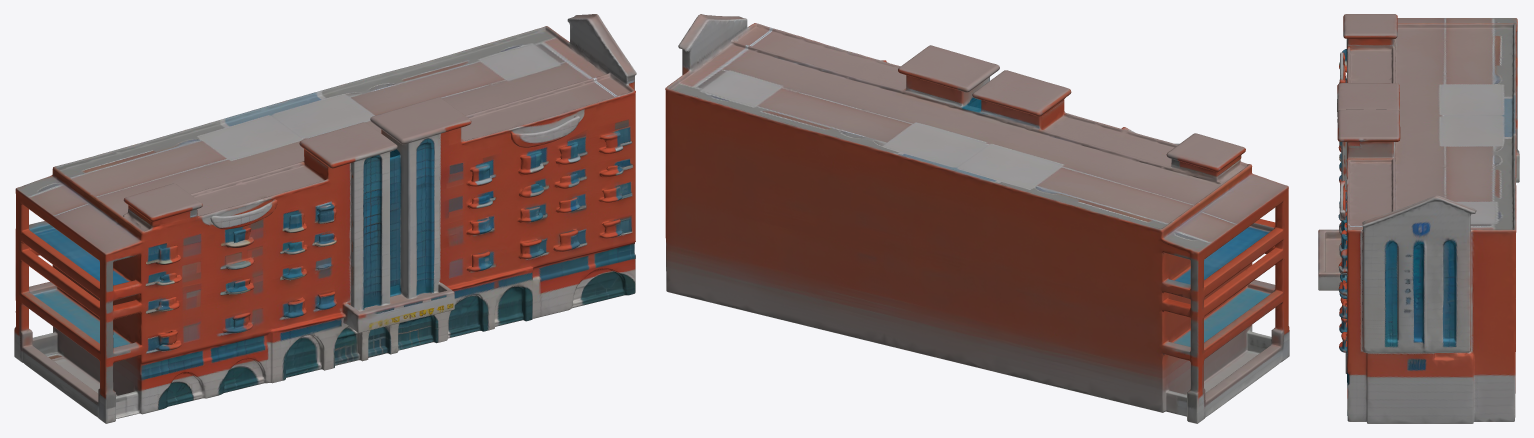
Rendered from vision.glb.
3 views of the same model, side by side, from view 1: azimuth 30°, elevation 25°; view 2: azimuth 150°, elevation 25°; view 3: azimuth 270°, elevation 25° (orthographic). The views are drawn at different scales.
Visible parts, largest first — view 1: tripo_node_0267b473-e922-4dde-ad07-fd2a5ba8719d; view 2: tripo_node_0267b473-e922-4dde-ad07-fd2a5ba8719d; view 3: tripo_node_0267b473-e922-4dde-ad07-fd2a5ba8719d.
Part boxes in pixels (x1,y1,x2,y2): tripo_node_0267b473-e922-4dde-ad07-fd2a5ba8719d: (14,14,636,423); tripo_node_0267b473-e922-4dde-ad07-fd2a5ba8719d: (665,14,1289,423); tripo_node_0267b473-e922-4dde-ad07-fd2a5ba8719d: (1318,14,1519,423).
Size of the model in its own units: 0.9999 by 0.4309 by 0.3422.
1 material, 1 textured.
